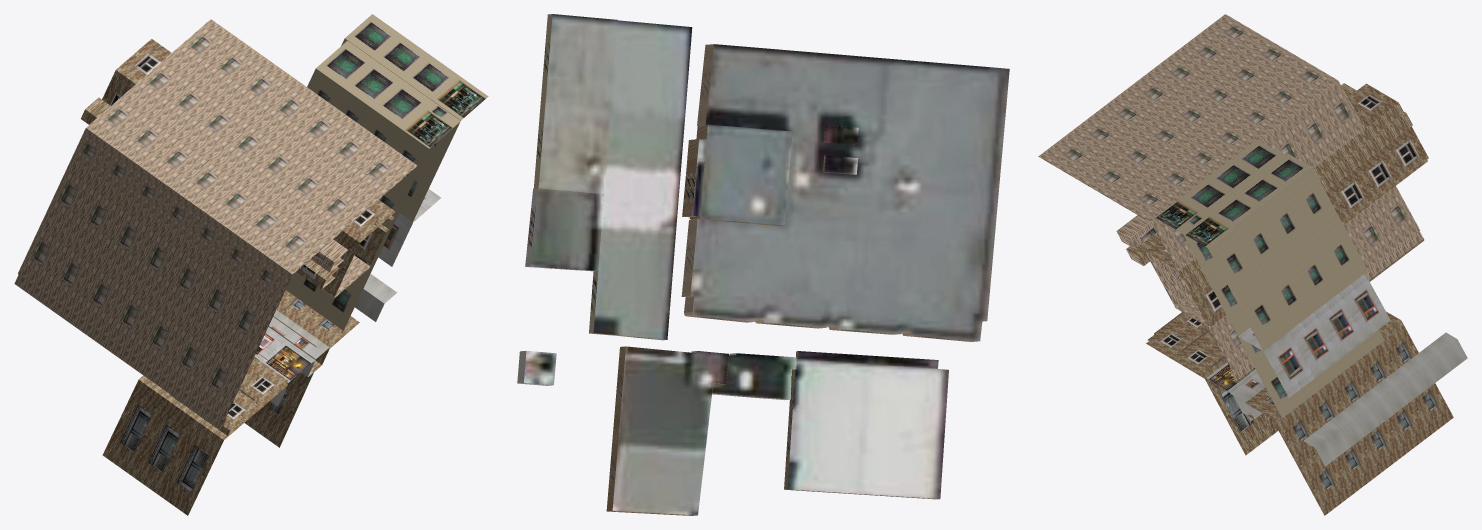
The picture shows the model from 3 angles, left to right: view 1: azimuth 30°, elevation 25°; view 2: azimuth 150°, elevation 25°; view 3: azimuth 270°, elevation 25°; orthographic projection. The views are drawn at different scales.
Bounding box in the file's own units: 43.68 × 42.04 × 41.46.
Materials: 48 (48 with a texture image).
